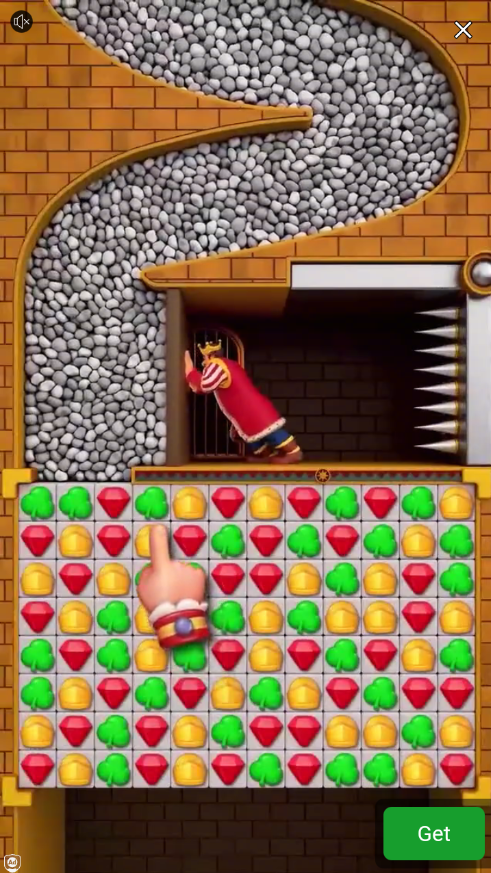close_button: (451, 15, 474, 44)
